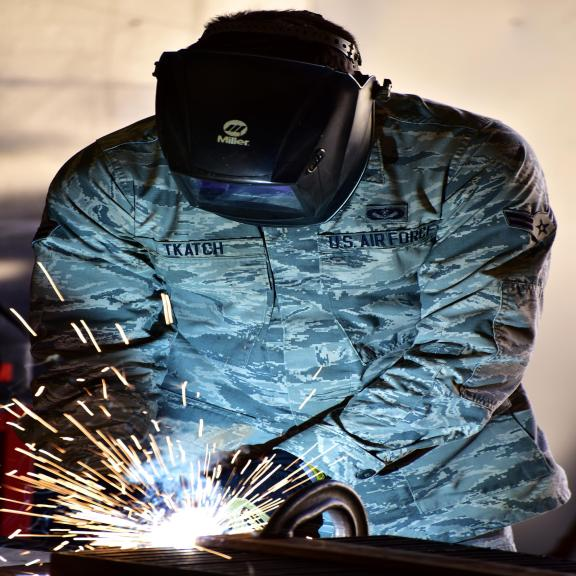no_safety_vest: (40, 107, 549, 458)
